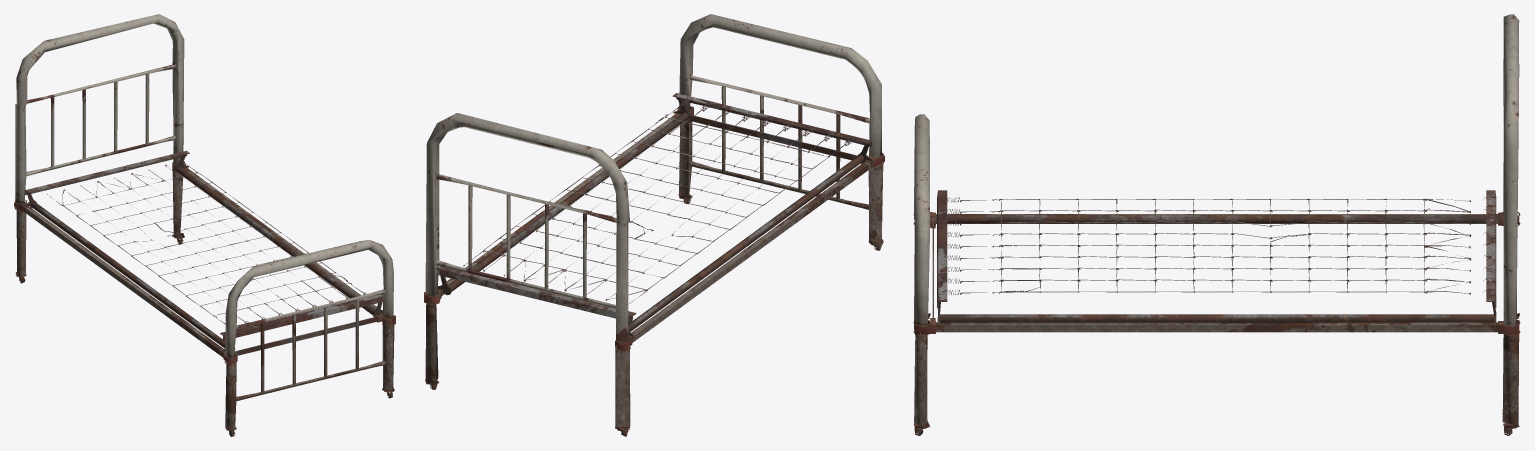
The model's file is old_bed_frame.glb.
3 renders of one model, left to right at view 1: azimuth 30°, elevation 25°; view 2: azimuth 150°, elevation 25°; view 3: azimuth 270°, elevation 25°, orthographic. The views are drawn at different scales.
Parts seen in each view (by area): view 1: c22_metal, c23_metal, c17_metal, c13_metal, c12_metal, c09_metal, c18_metal, c20_metal, c19_metal, c07_metal, c10_metal, c08_metal (+3 smaller); view 2: c22_metal, c17_metal, c23_metal, c13_metal, c09_metal, c12_metal, c06_metal, c19_metal, c18_metal, c21_metal, c20_metal, c10_metal (+3 smaller); view 3: c17_metal, c23_metal, c22_metal, c11_metal, c20_metal, c21_metal, c19_metal, c18_metal, c08_metal, c10_metal, c16_metal.
Part boxes in pixels (x1,y1,x2,y2): c22_metal: [14, 103, 395, 436]; c23_metal: [16, 14, 382, 316]; c17_metal: [41, 155, 394, 355]; c13_metal: [27, 64, 175, 167]; c12_metal: [236, 289, 385, 392]; c09_metal: [23, 207, 224, 357]; c18_metal: [14, 190, 133, 278]; c20_metal: [172, 155, 278, 243]; c19_metal: [129, 274, 236, 364]; c07_metal: [223, 296, 382, 340]; c10_metal: [25, 206, 161, 307]; c08_metal: [25, 150, 189, 192]; c22_metal: [615, 14, 884, 436]; c17_metal: [463, 93, 871, 303]; c23_metal: [424, 97, 690, 389]; c13_metal: [436, 174, 616, 298]; c09_metal: [630, 160, 873, 342]; c12_metal: [689, 74, 870, 199]; c06_metal: [438, 268, 632, 322]; c19_metal: [740, 141, 883, 248]; c18_metal: [615, 242, 744, 351]; c21_metal: [565, 112, 688, 205]; c20_metal: [424, 199, 569, 304]; c10_metal: [628, 218, 792, 336]; c17_metal: [913, 190, 1487, 335]; c23_metal: [937, 14, 1519, 435]; c22_metal: [914, 114, 1519, 435]; c11_metal: [936, 325, 1498, 332]; c20_metal: [1217, 301, 1520, 335]; c21_metal: [940, 314, 1216, 322]; c19_metal: [913, 212, 1216, 228]; c18_metal: [1217, 212, 1520, 225]; c08_metal: [1486, 190, 1494, 300]; c10_metal: [1122, 214, 1498, 223]; c16_metal: [1311, 322, 1497, 325].
Size of the model in its own units: 0.9116 by 1.2 by 2.
1 material, 1 textured.
